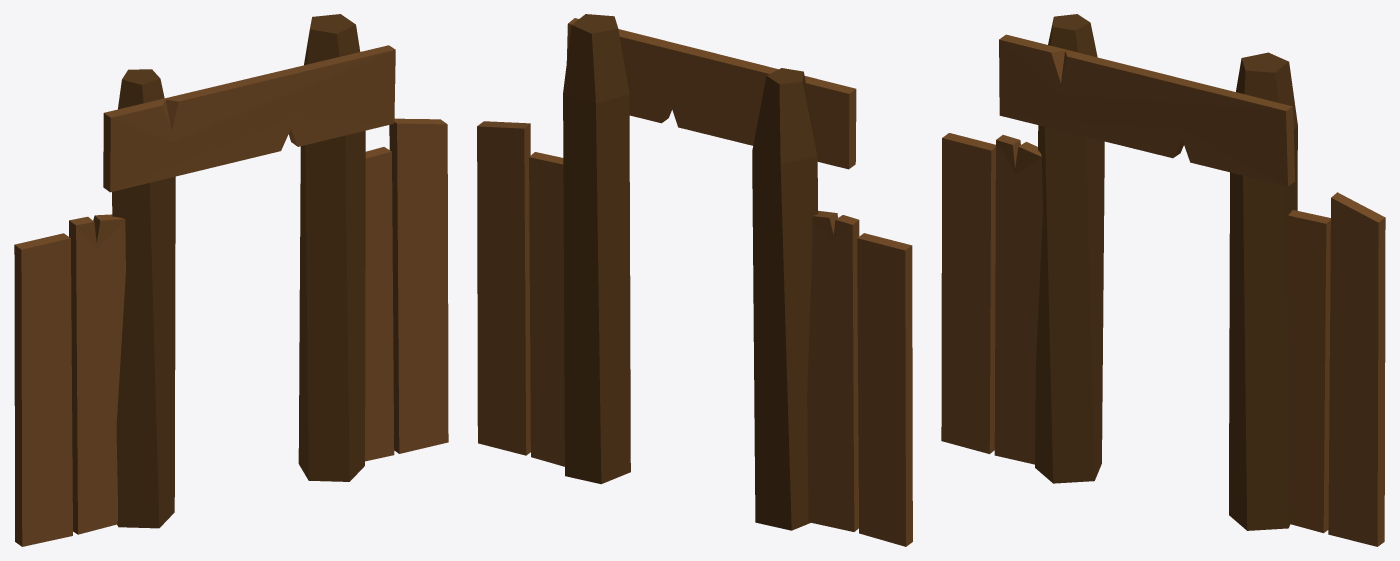
The model's file is E_A_Entrance.fbx.
3 renders of one model, left to right at view 1: azimuth 30°, elevation 25°; view 2: azimuth 150°, elevation 25°; view 3: azimuth 330°, elevation 25°, orthographic.
Parts seen in each view (by area): view 1: E_A_Entrance; view 2: E_A_Entrance; view 3: E_A_Entrance.
Boxes of the visible parts, x1,y1,x2,y2 form: E_A_Entrance: (14,14,448,546); E_A_Entrance: (477,14,912,546); E_A_Entrance: (941,14,1385,546).
Bounding box in the file's own units: 606 × 605 × 93.39.
